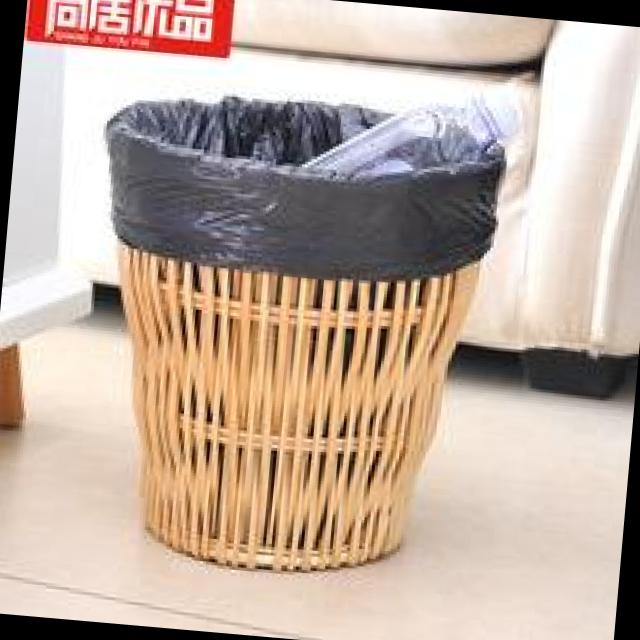dustbin: (66, 79, 512, 593)
